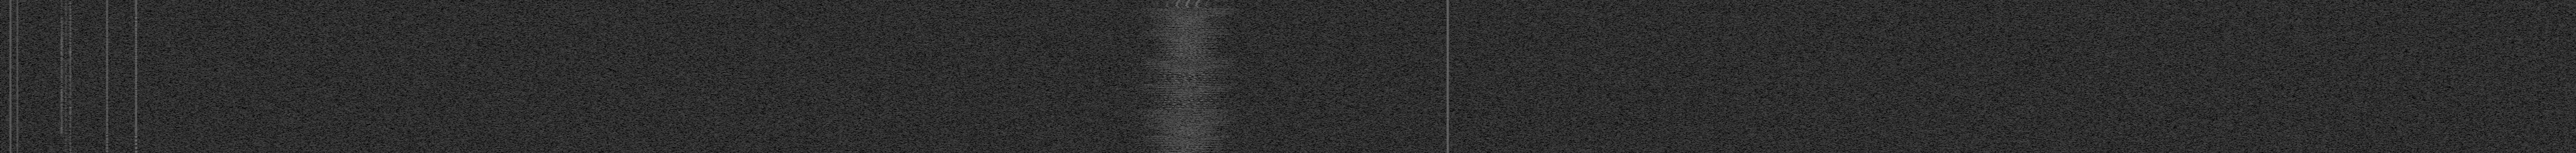wv_am: (1446, 0, 1449, 153), (105, 0, 108, 135), (135, 28, 138, 135), (135, 0, 138, 26), (105, 135, 108, 153), (135, 135, 138, 145), (135, 150, 138, 153), (135, 146, 138, 150)
wv_cw: (8, 0, 11, 153), (16, 0, 18, 153)
wv_lsb: (67, 0, 72, 153), (64, 30, 67, 153), (64, 0, 67, 30)
wv_usb: (59, 0, 64, 133)
wv_wbfm: (1132, 0, 1244, 153)
